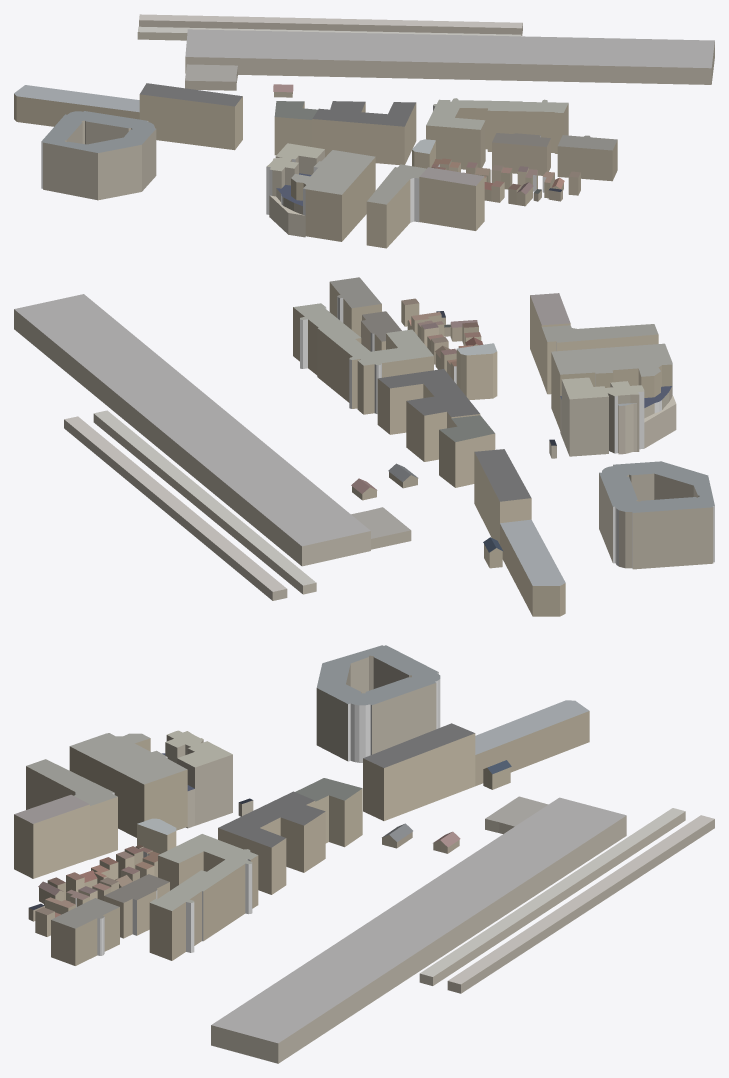
3 renders of one model, top to bottom at view 1: azimuth 30°, elevation 25°; view 2: azimuth 150°, elevation 25°; view 3: azimuth 270°, elevation 25°, orthographic. The views are drawn at different scales.
Parts seen in each view (by area): view 1: tuile; view 2: tuile; view 3: tuile.
Part boxes in pixels (bbox=[...]): tuile: bbox=[14, 14, 714, 248]; tuile: bbox=[14, 277, 714, 616]; tuile: bbox=[14, 645, 714, 1063].
Bounding box in the file's own units: 387 × 28.5 × 307.
